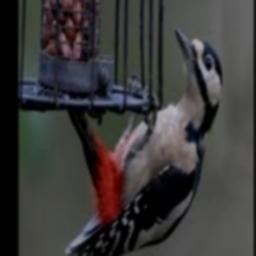Woodpecker: (65, 28, 223, 256)
